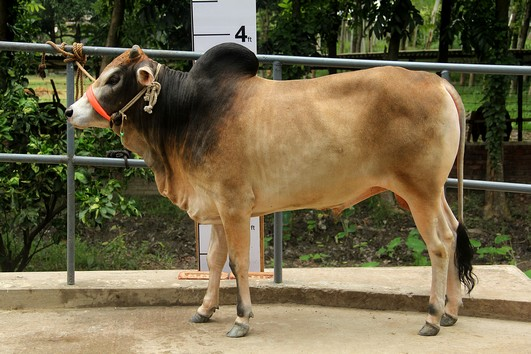cow: (57, 39, 480, 343)
